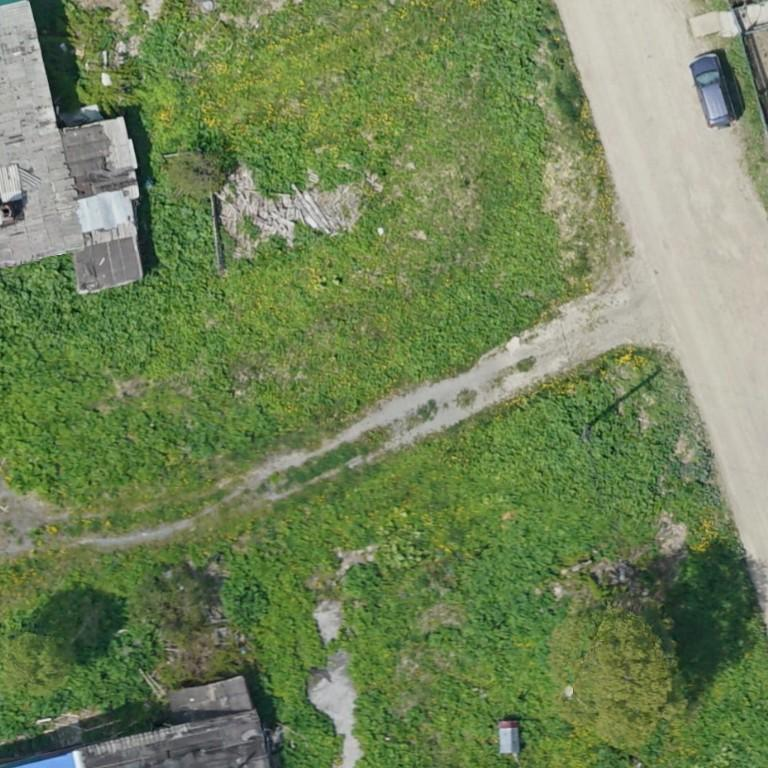hogweed: (0, 194, 215, 366), (480, 383, 676, 514), (34, 637, 159, 719), (457, 545, 562, 637), (483, 3, 539, 147), (348, 564, 379, 588)
